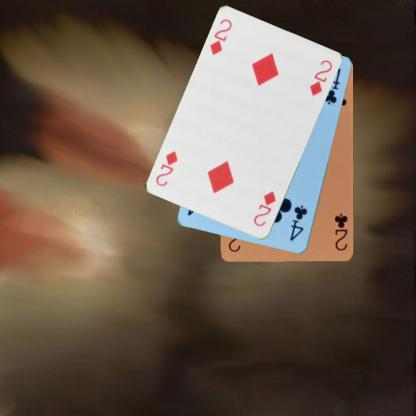2c: (332, 211, 349, 252)
2d: (207, 16, 233, 57), (251, 189, 277, 229)
4c: (287, 202, 309, 243)
